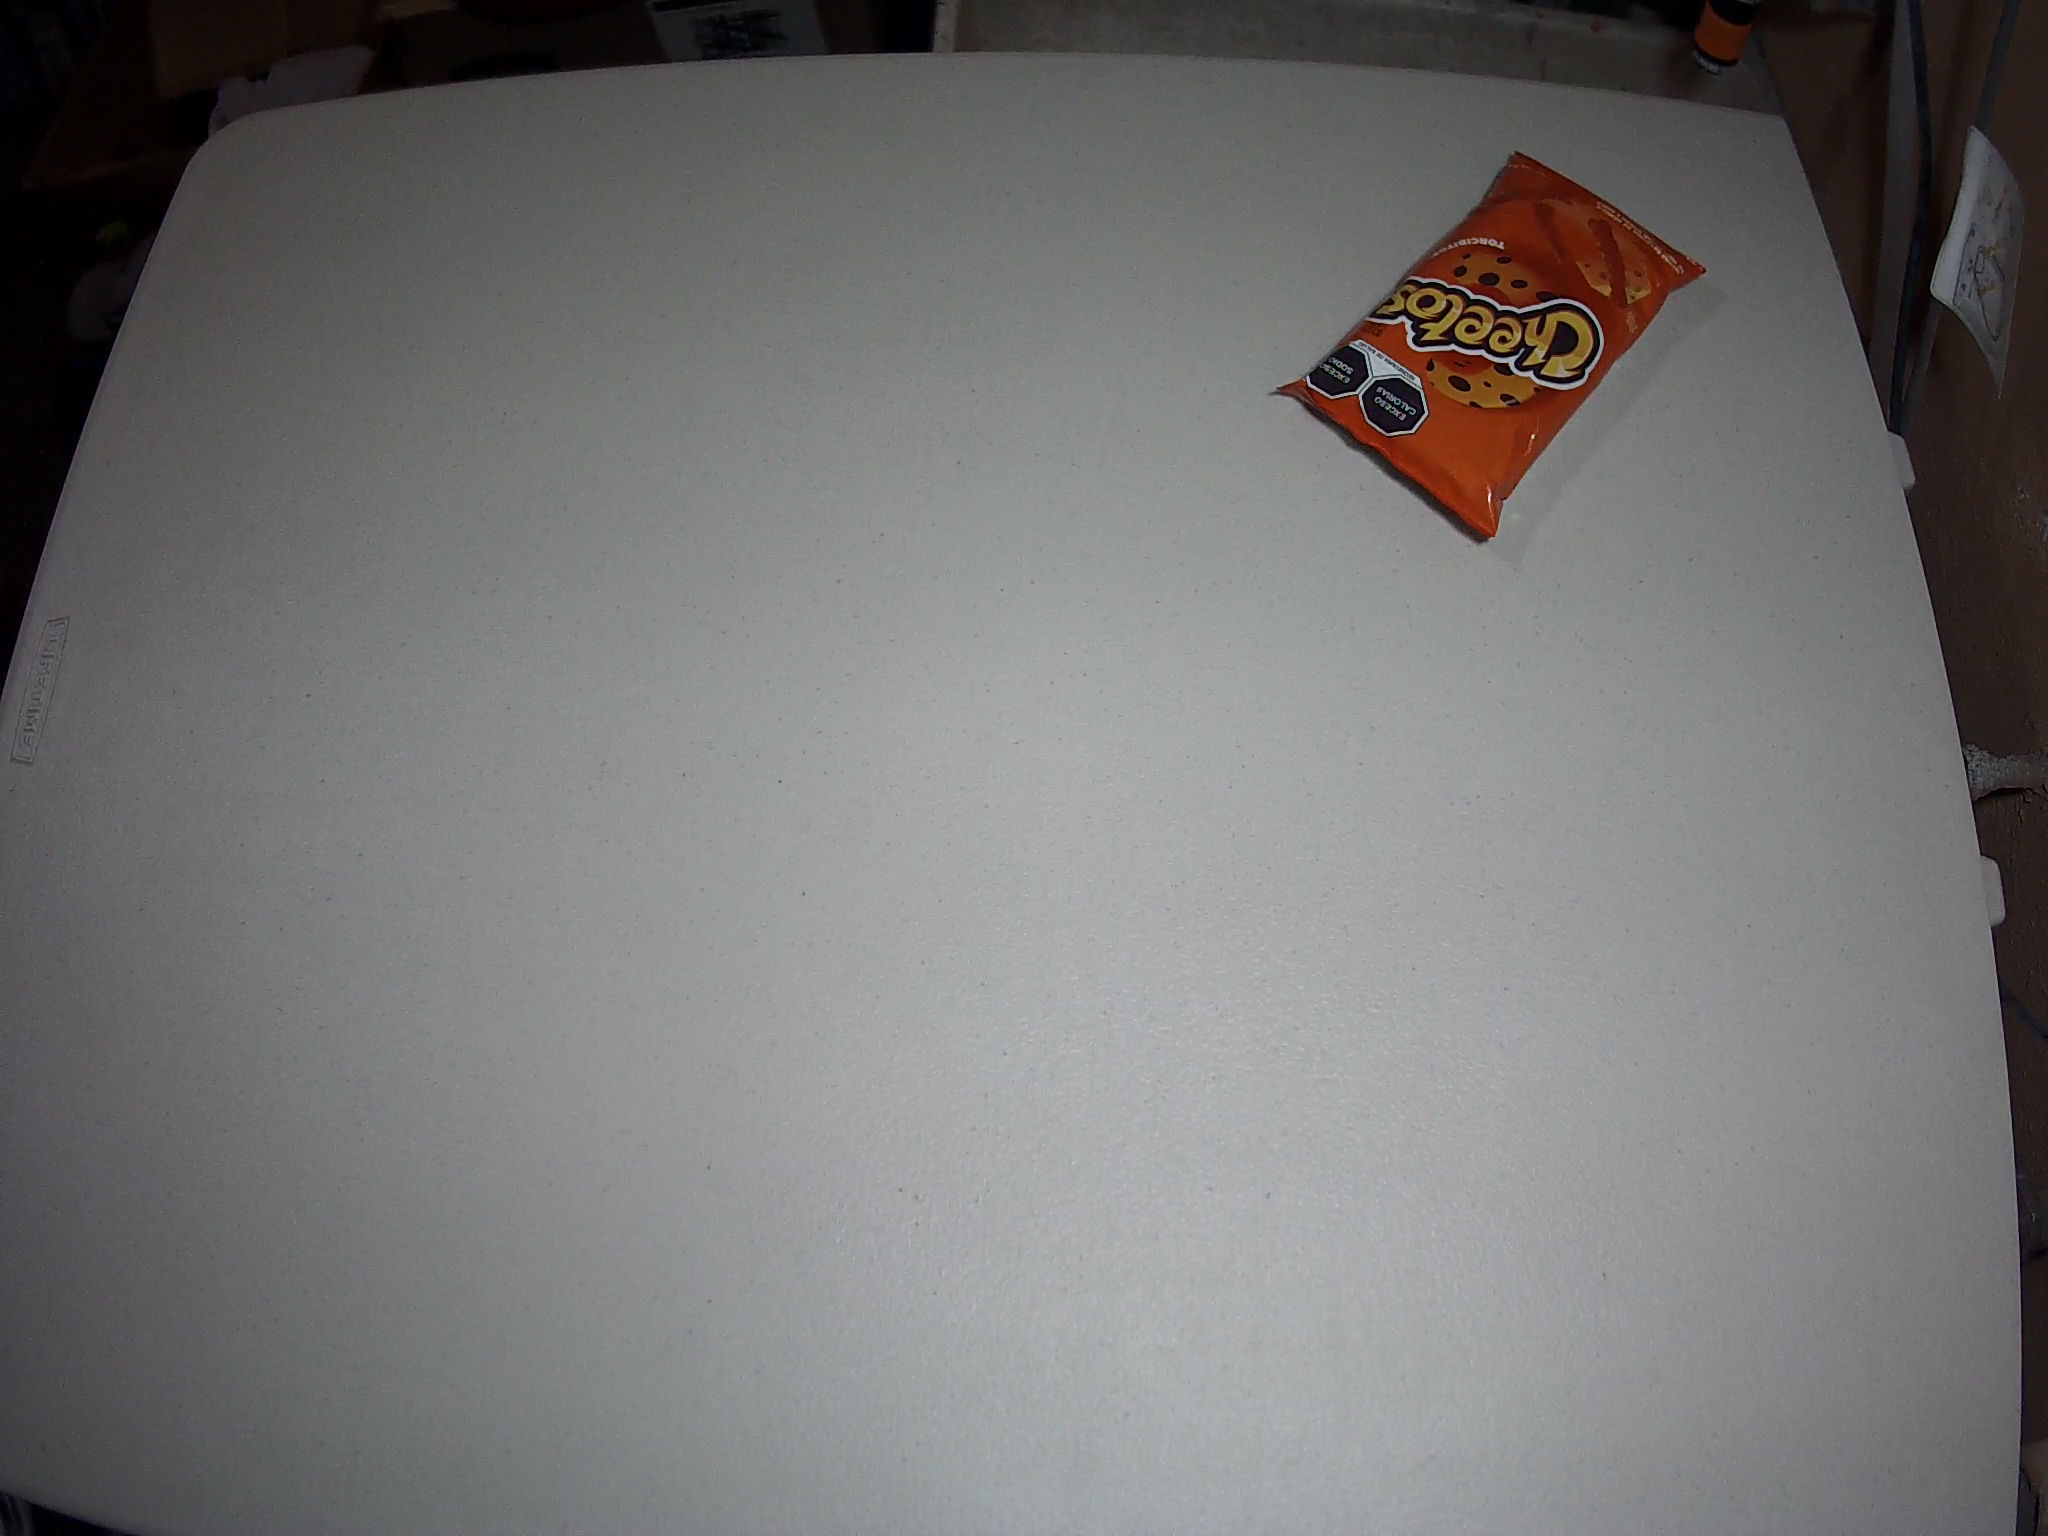CheetosTorciditos_55_F: (1277, 150, 1708, 542)
